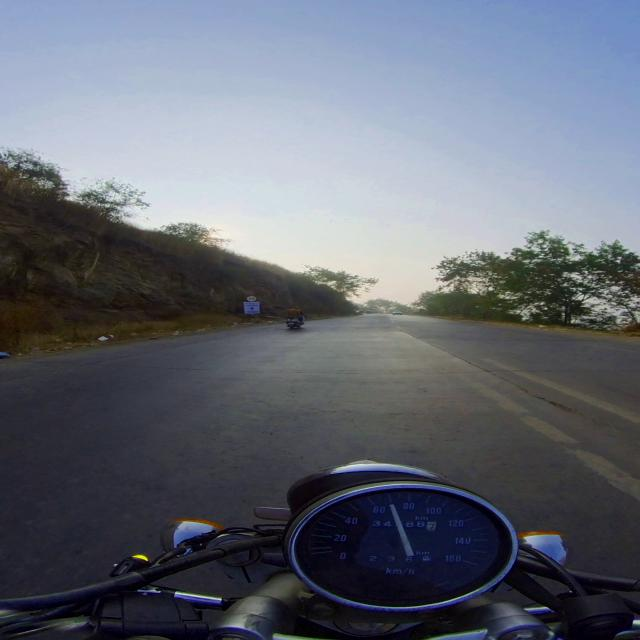car: (393, 311, 402, 314)
motorcycle: (0, 461, 639, 639), (286, 317, 304, 329)
